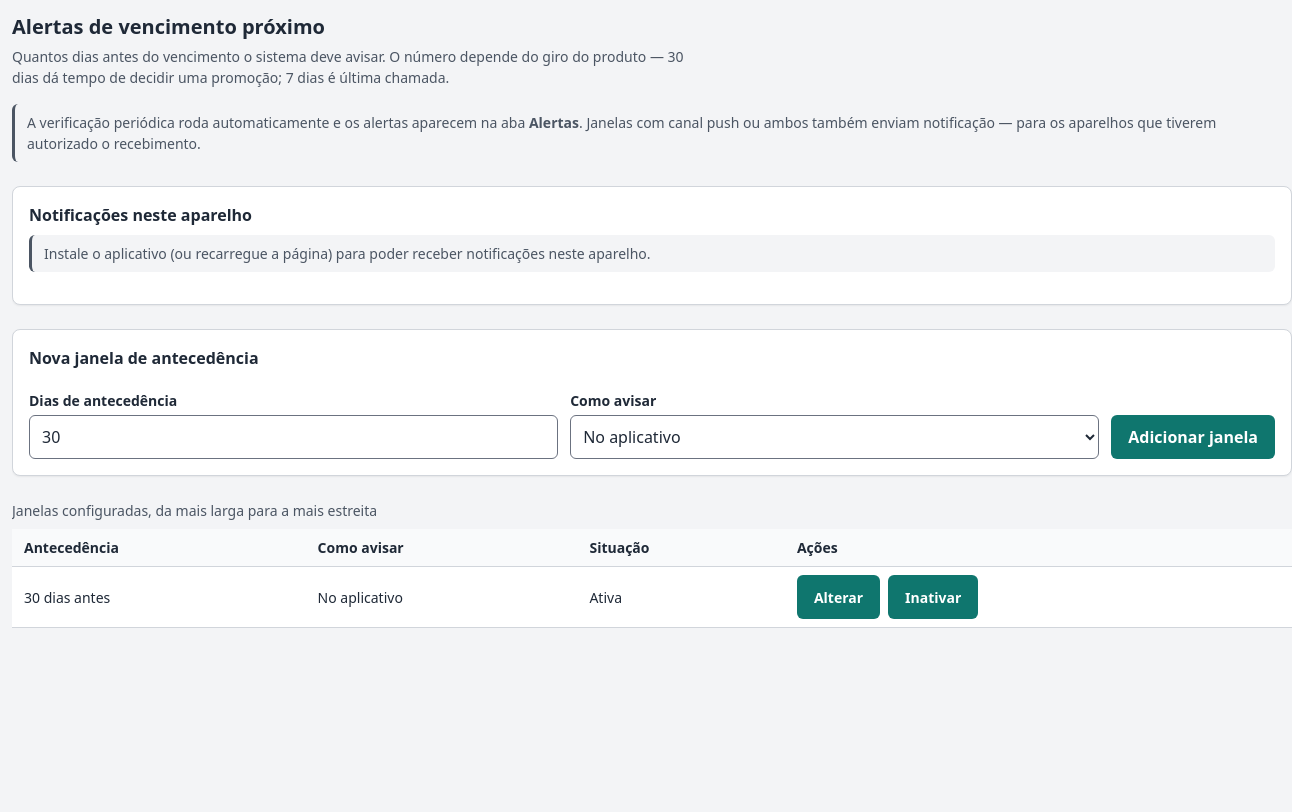
Test case: TelaConfiguracaoAlerta (RF08) › alterar envia só o campo que mudou
Check: the text "30 dias antes" is shown, box [12,566,306,628]
Click the button "Alterar". click: [838, 597]
box: [797,575,880,619]
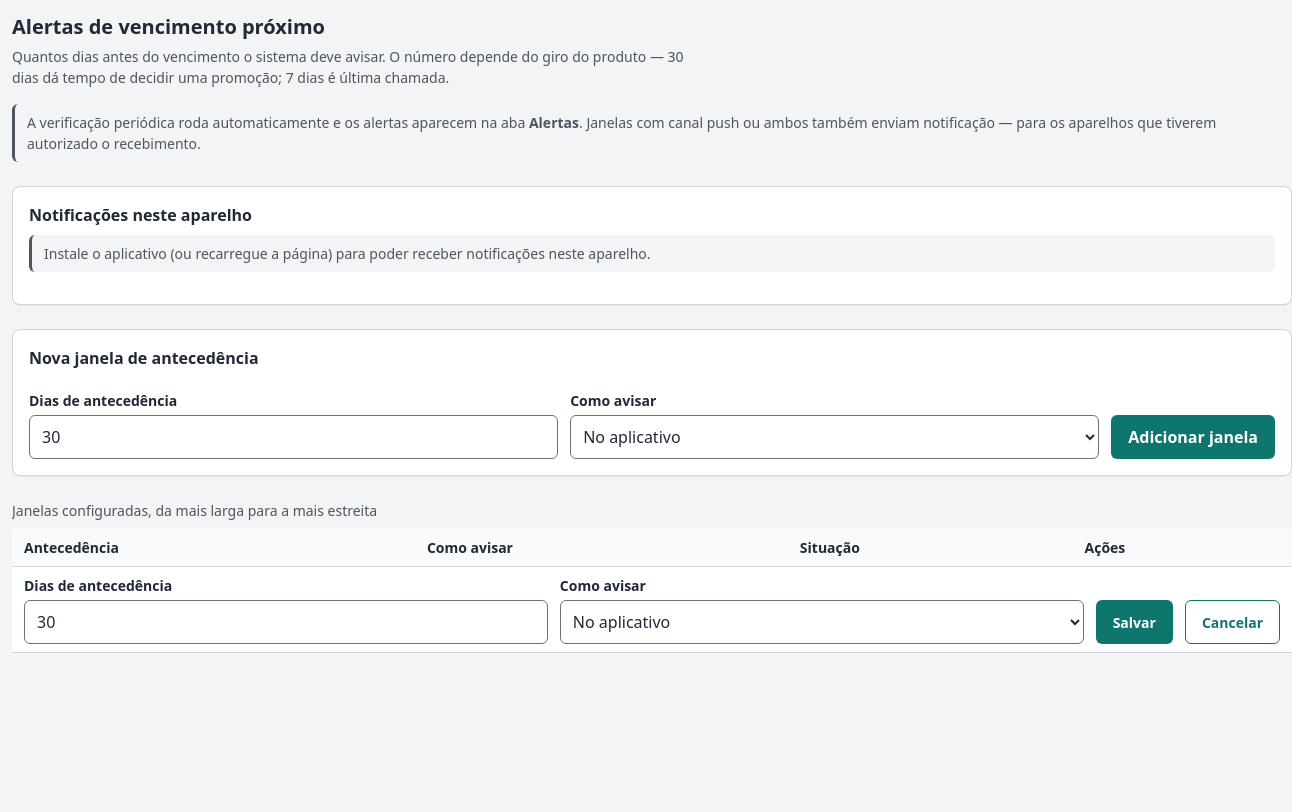
Select "Notificação push" in the dropdown labelled "Como avisar" below "Situação". click: [822, 622]
box: [560,600,1084,644]
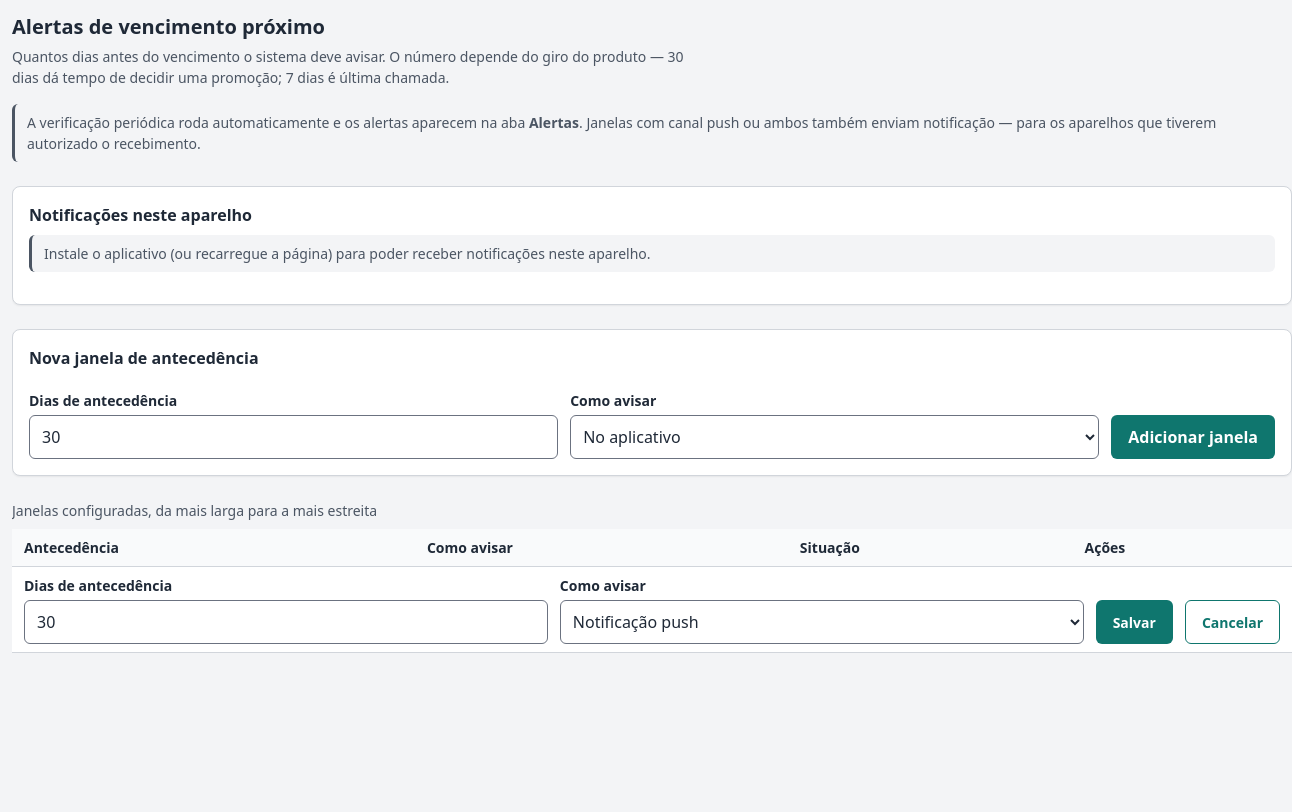
Click the button "Salvar". click: [1134, 622]
box: [1096,600,1173,644]
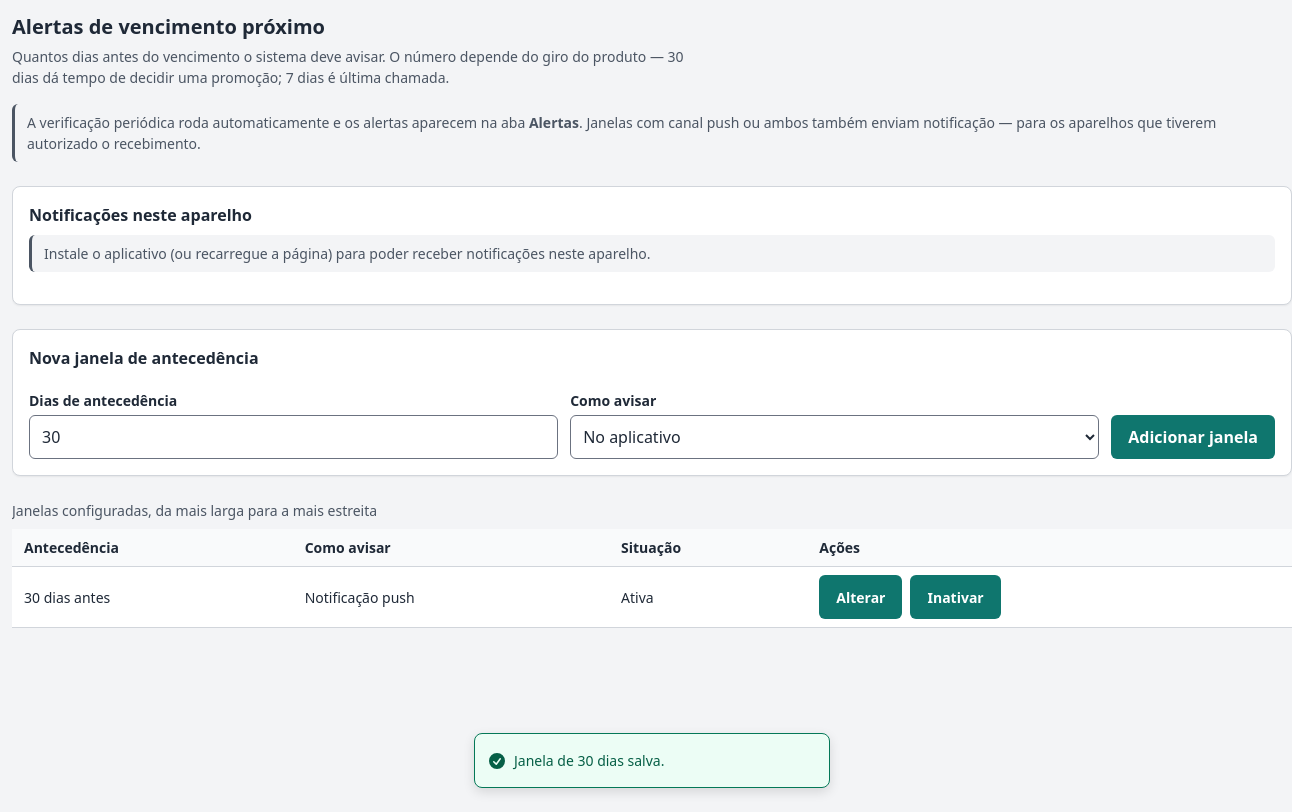
Check: the text "Notificação push" is shown, box [293,566,609,628]
